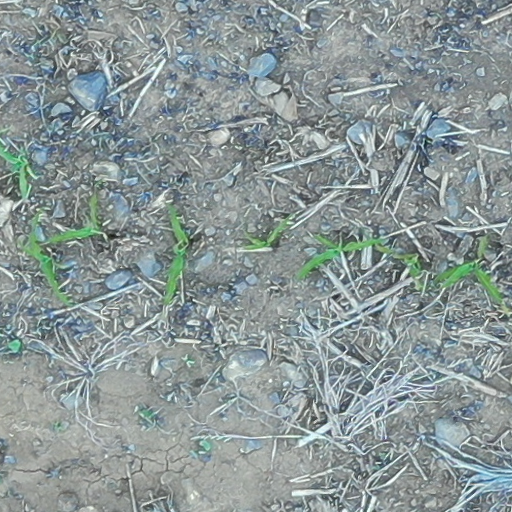planta: (18, 207, 72, 306), (294, 231, 387, 280), (159, 201, 193, 310), (428, 257, 506, 304), (46, 189, 103, 247), (237, 208, 296, 254)
